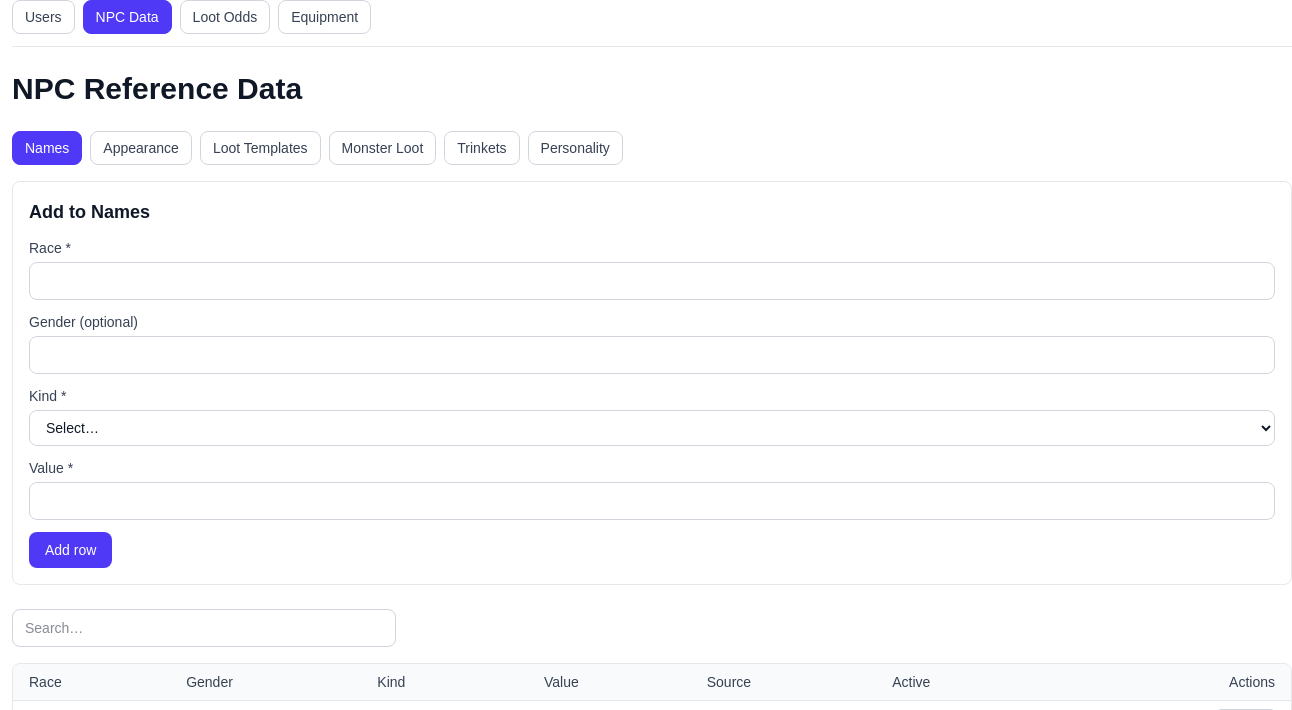
AdminNpcDataPage › always shows Delete on personality rows (no source filter)
Step 1. Click the tab "Personality" → (575, 148), box [528,131,623,165]
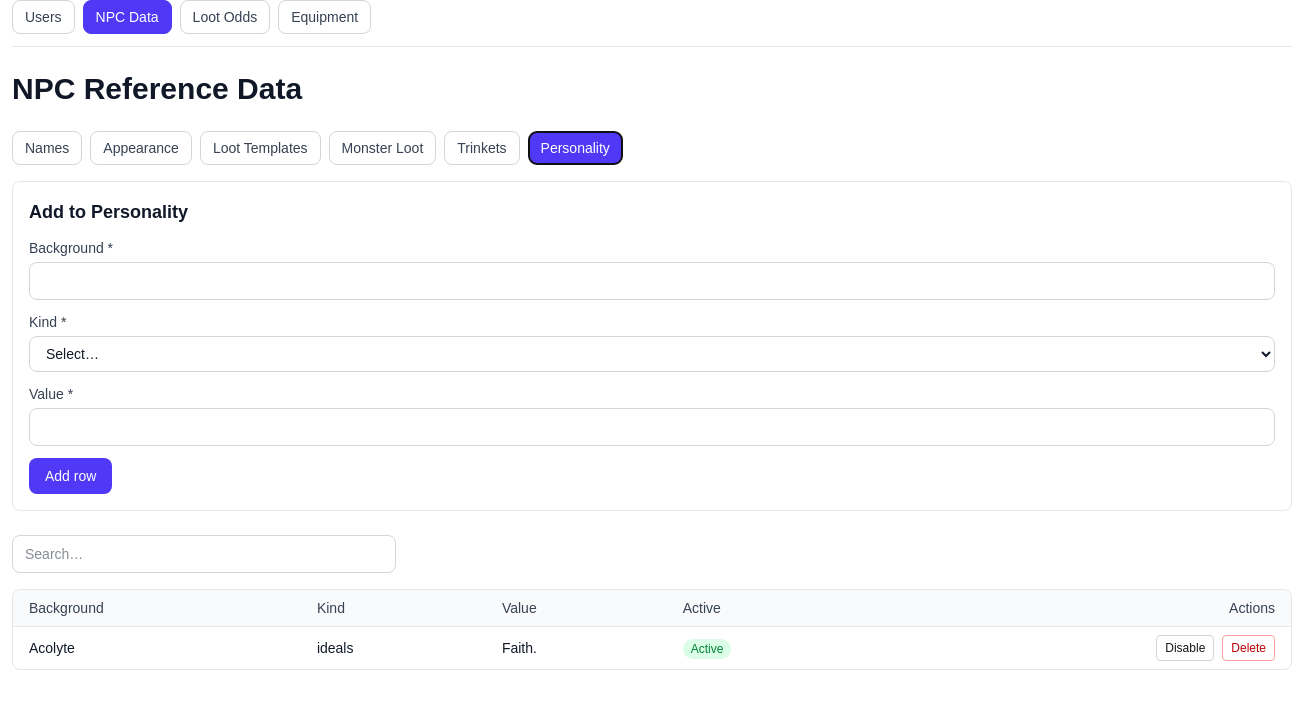
Expected: the text "Faith." is shown, [486,626,667,669]
Expected: the button "Delete" is shown, [1222,635,1275,661]
